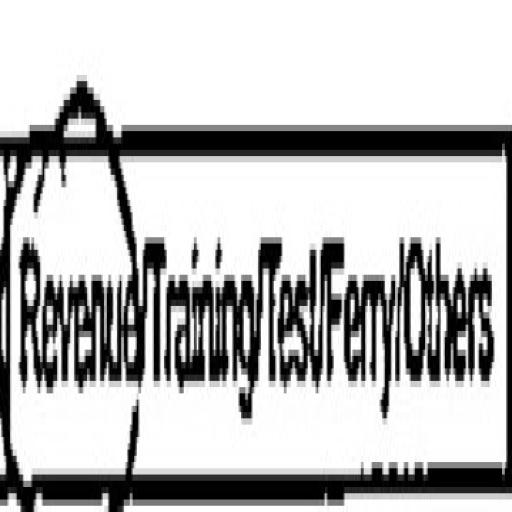check: (0, 31, 144, 512)
